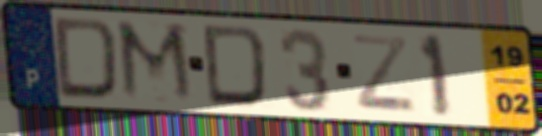1: (414, 31, 456, 120)
3: (277, 25, 332, 115)
D: (51, 15, 123, 103), (200, 22, 271, 110)
M: (113, 17, 201, 107)
Z: (348, 31, 420, 116)
